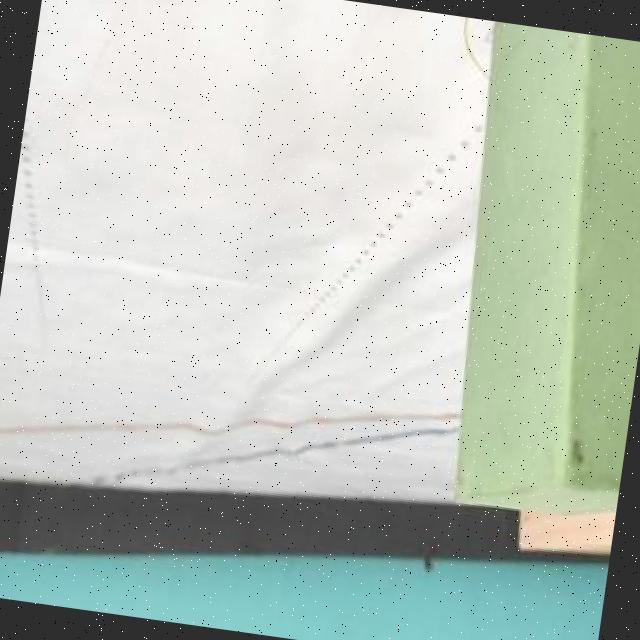greenbox: (429, 22, 640, 531)
